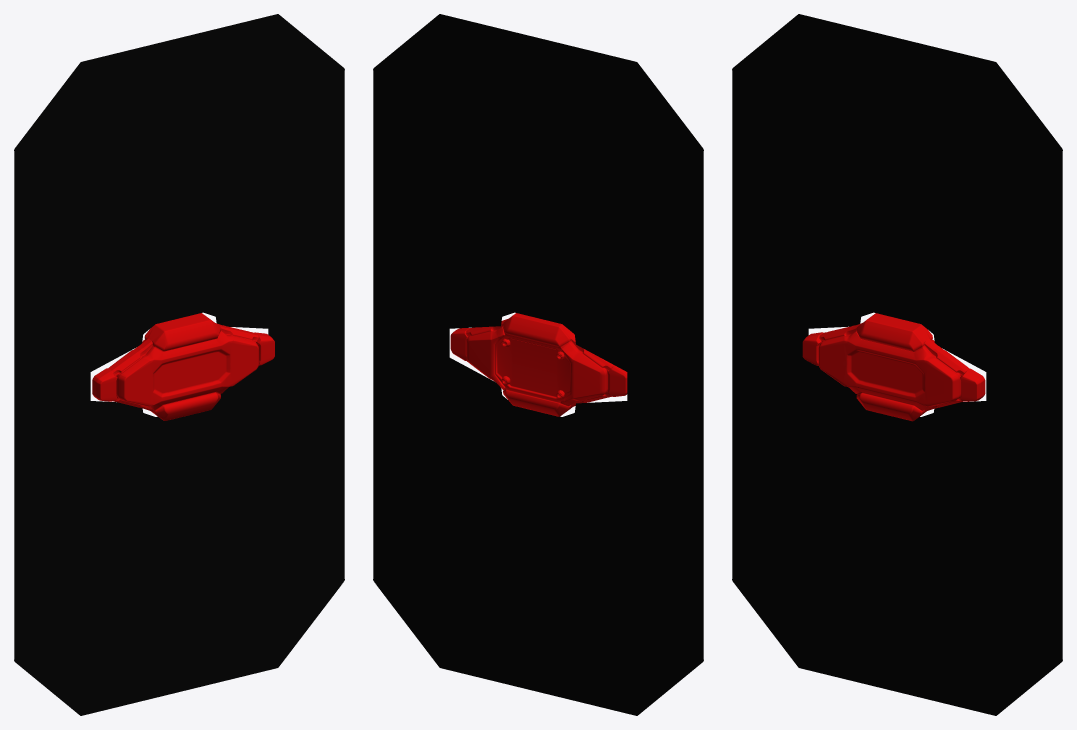
Rendered from CapstoneShield.fbx.
3 renders of one model, left to right at view 1: azimuth 30°, elevation 25°; view 2: azimuth 150°, elevation 25°; view 3: azimuth 330°, elevation 25°, orthographic.
Visible parts, largest first — view 1: ShieldSurface; view 2: ShieldSurface; view 3: ShieldSurface.
Part boxes in pixels (x1,y1,x2,y2): ShieldSurface: [14, 14, 344, 715]; ShieldSurface: [373, 14, 703, 715]; ShieldSurface: [732, 14, 1062, 715].
Size of the model in its own units: 52.88 by 99.95 by 5.13.
